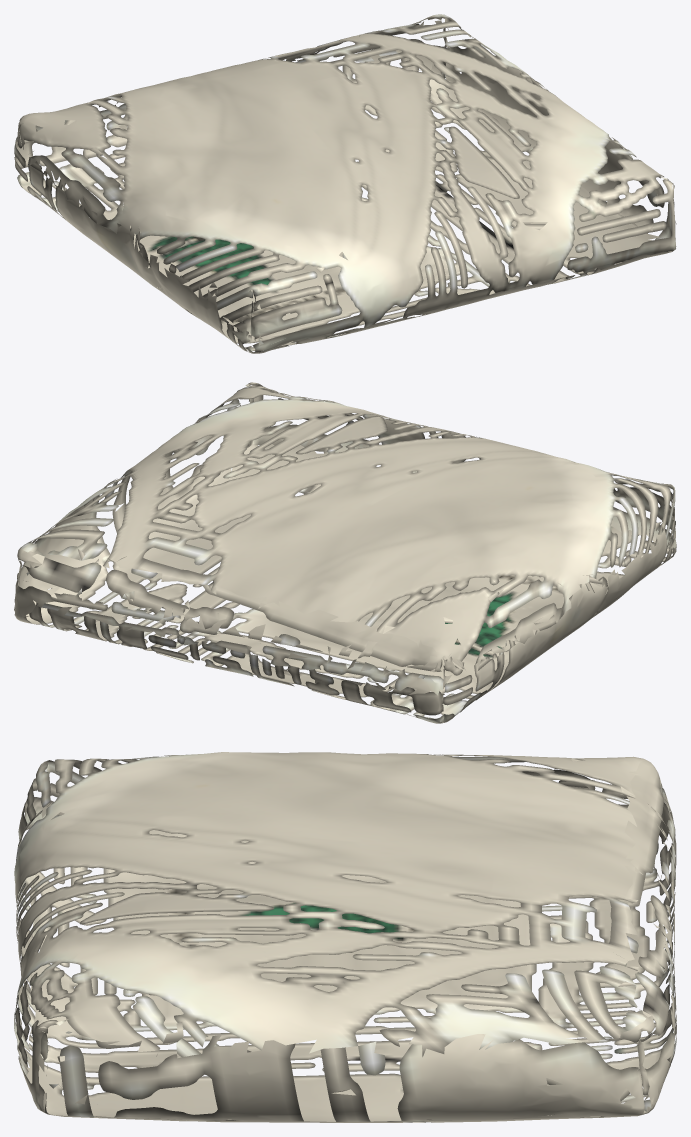
The picture shows the model from 3 angles, top to bottom: view 1: azimuth 30°, elevation 25°; view 2: azimuth 150°, elevation 25°; view 3: azimuth 270°, elevation 25°; orthographic projection. The views are drawn at different scales.
Parts seen in each view (by area): view 1: solid_001; view 2: solid_001; view 3: solid_001.
Boxes of the visible parts, bbox=[...] form: solid_001: bbox=[14, 14, 676, 353]; solid_001: bbox=[14, 382, 676, 723]; solid_001: bbox=[14, 752, 676, 1122].
Bounding box in the file's own units: 2 × 0.4508 × 1.92.
